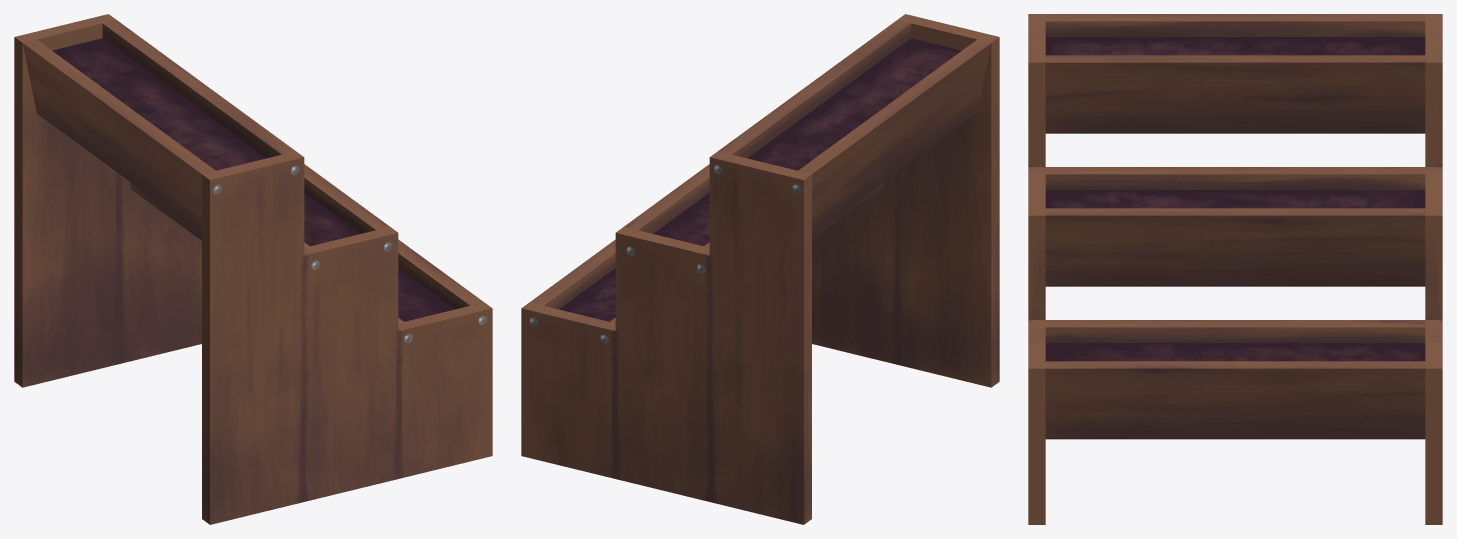
The model's file is stair planter.fbx.
The picture shows the model from 3 angles, left to right: view 1: azimuth 30°, elevation 25°; view 2: azimuth 150°, elevation 25°; view 3: azimuth 270°, elevation 25°; orthographic projection. The views are drawn at different scales.
Visible parts, largest first — view 1: Cube; view 2: Cube; view 3: Cube.
Part boxes in pixels (x1,y1,x2,y2): Cube: [14, 14, 492, 524]; Cube: [521, 14, 999, 524]; Cube: [1028, 14, 1442, 524].
Bounding box in the file's own units: 600 × 700 × 720.
1 material, 1 textured.
